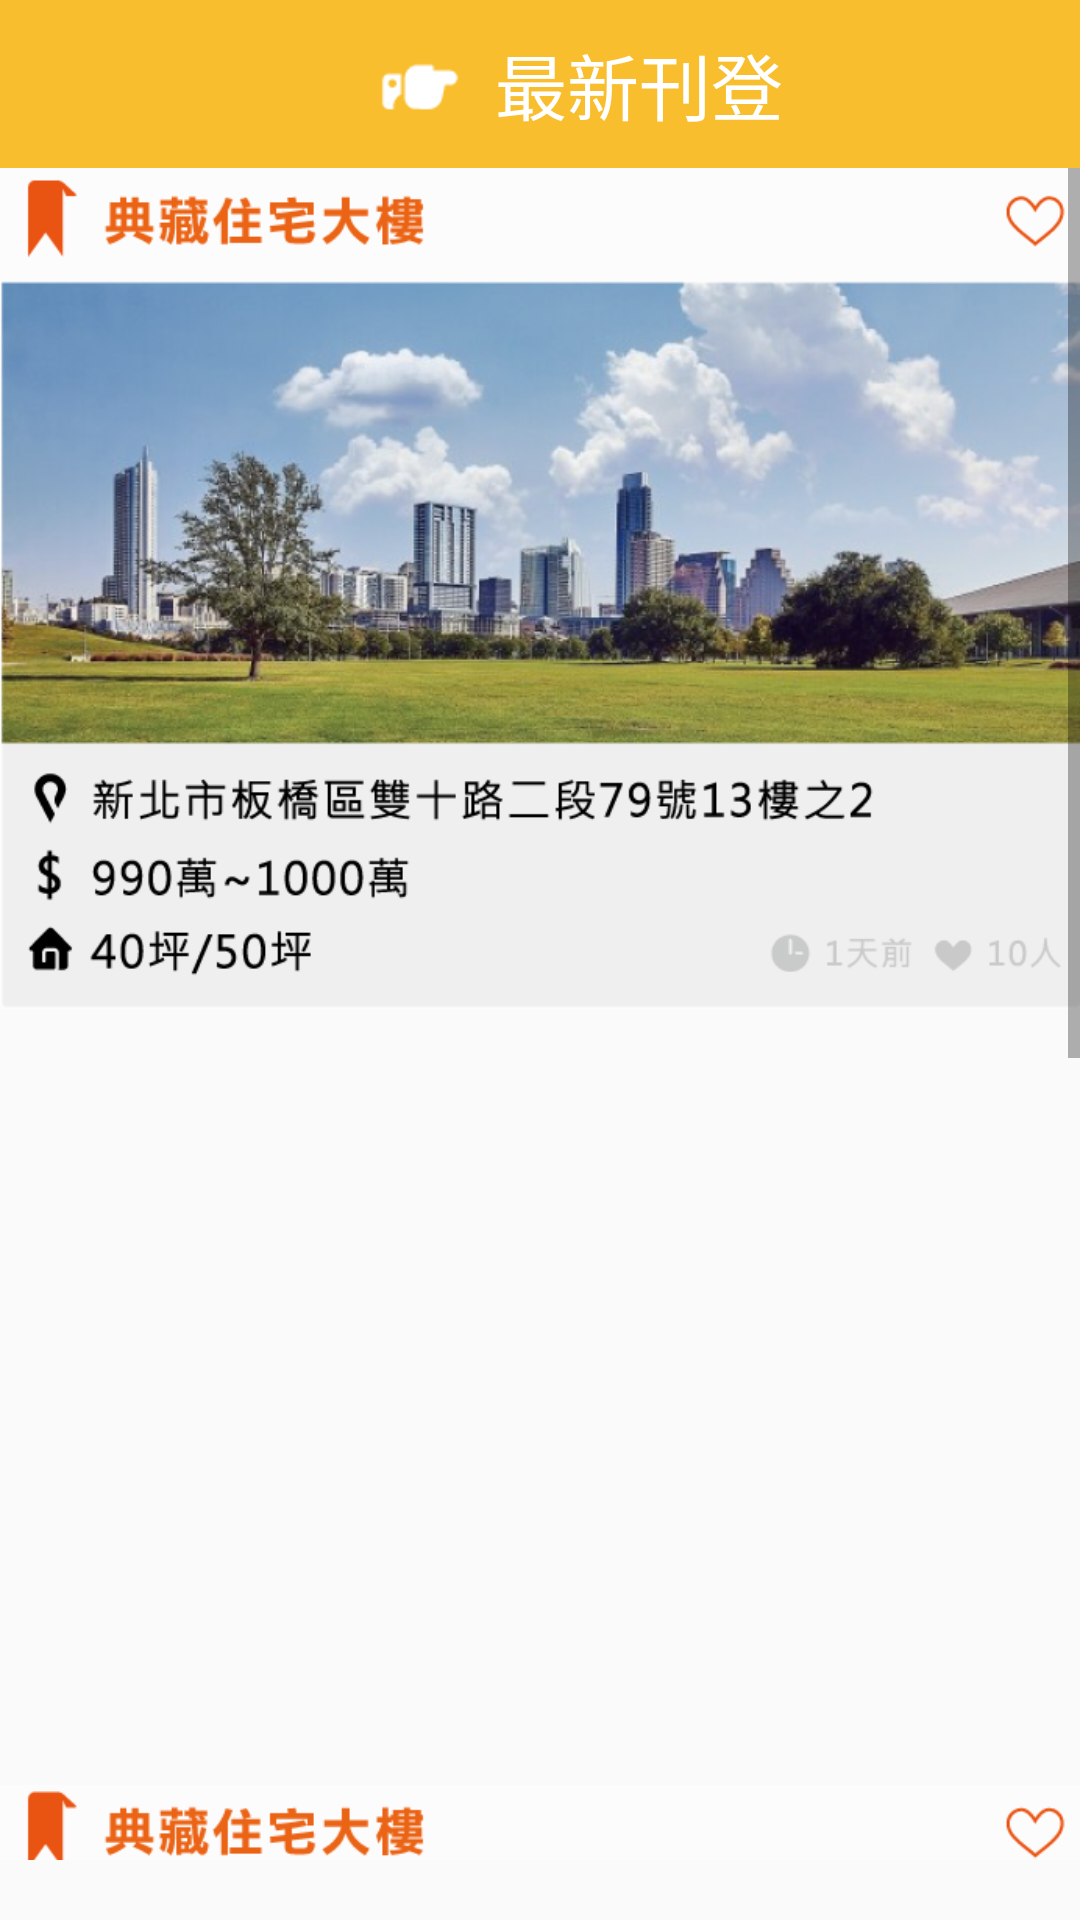

Icons on this 1080x1920 Android screen, each with the point to tap as (x=x, y=y):
finger point: (x=420, y=87)
